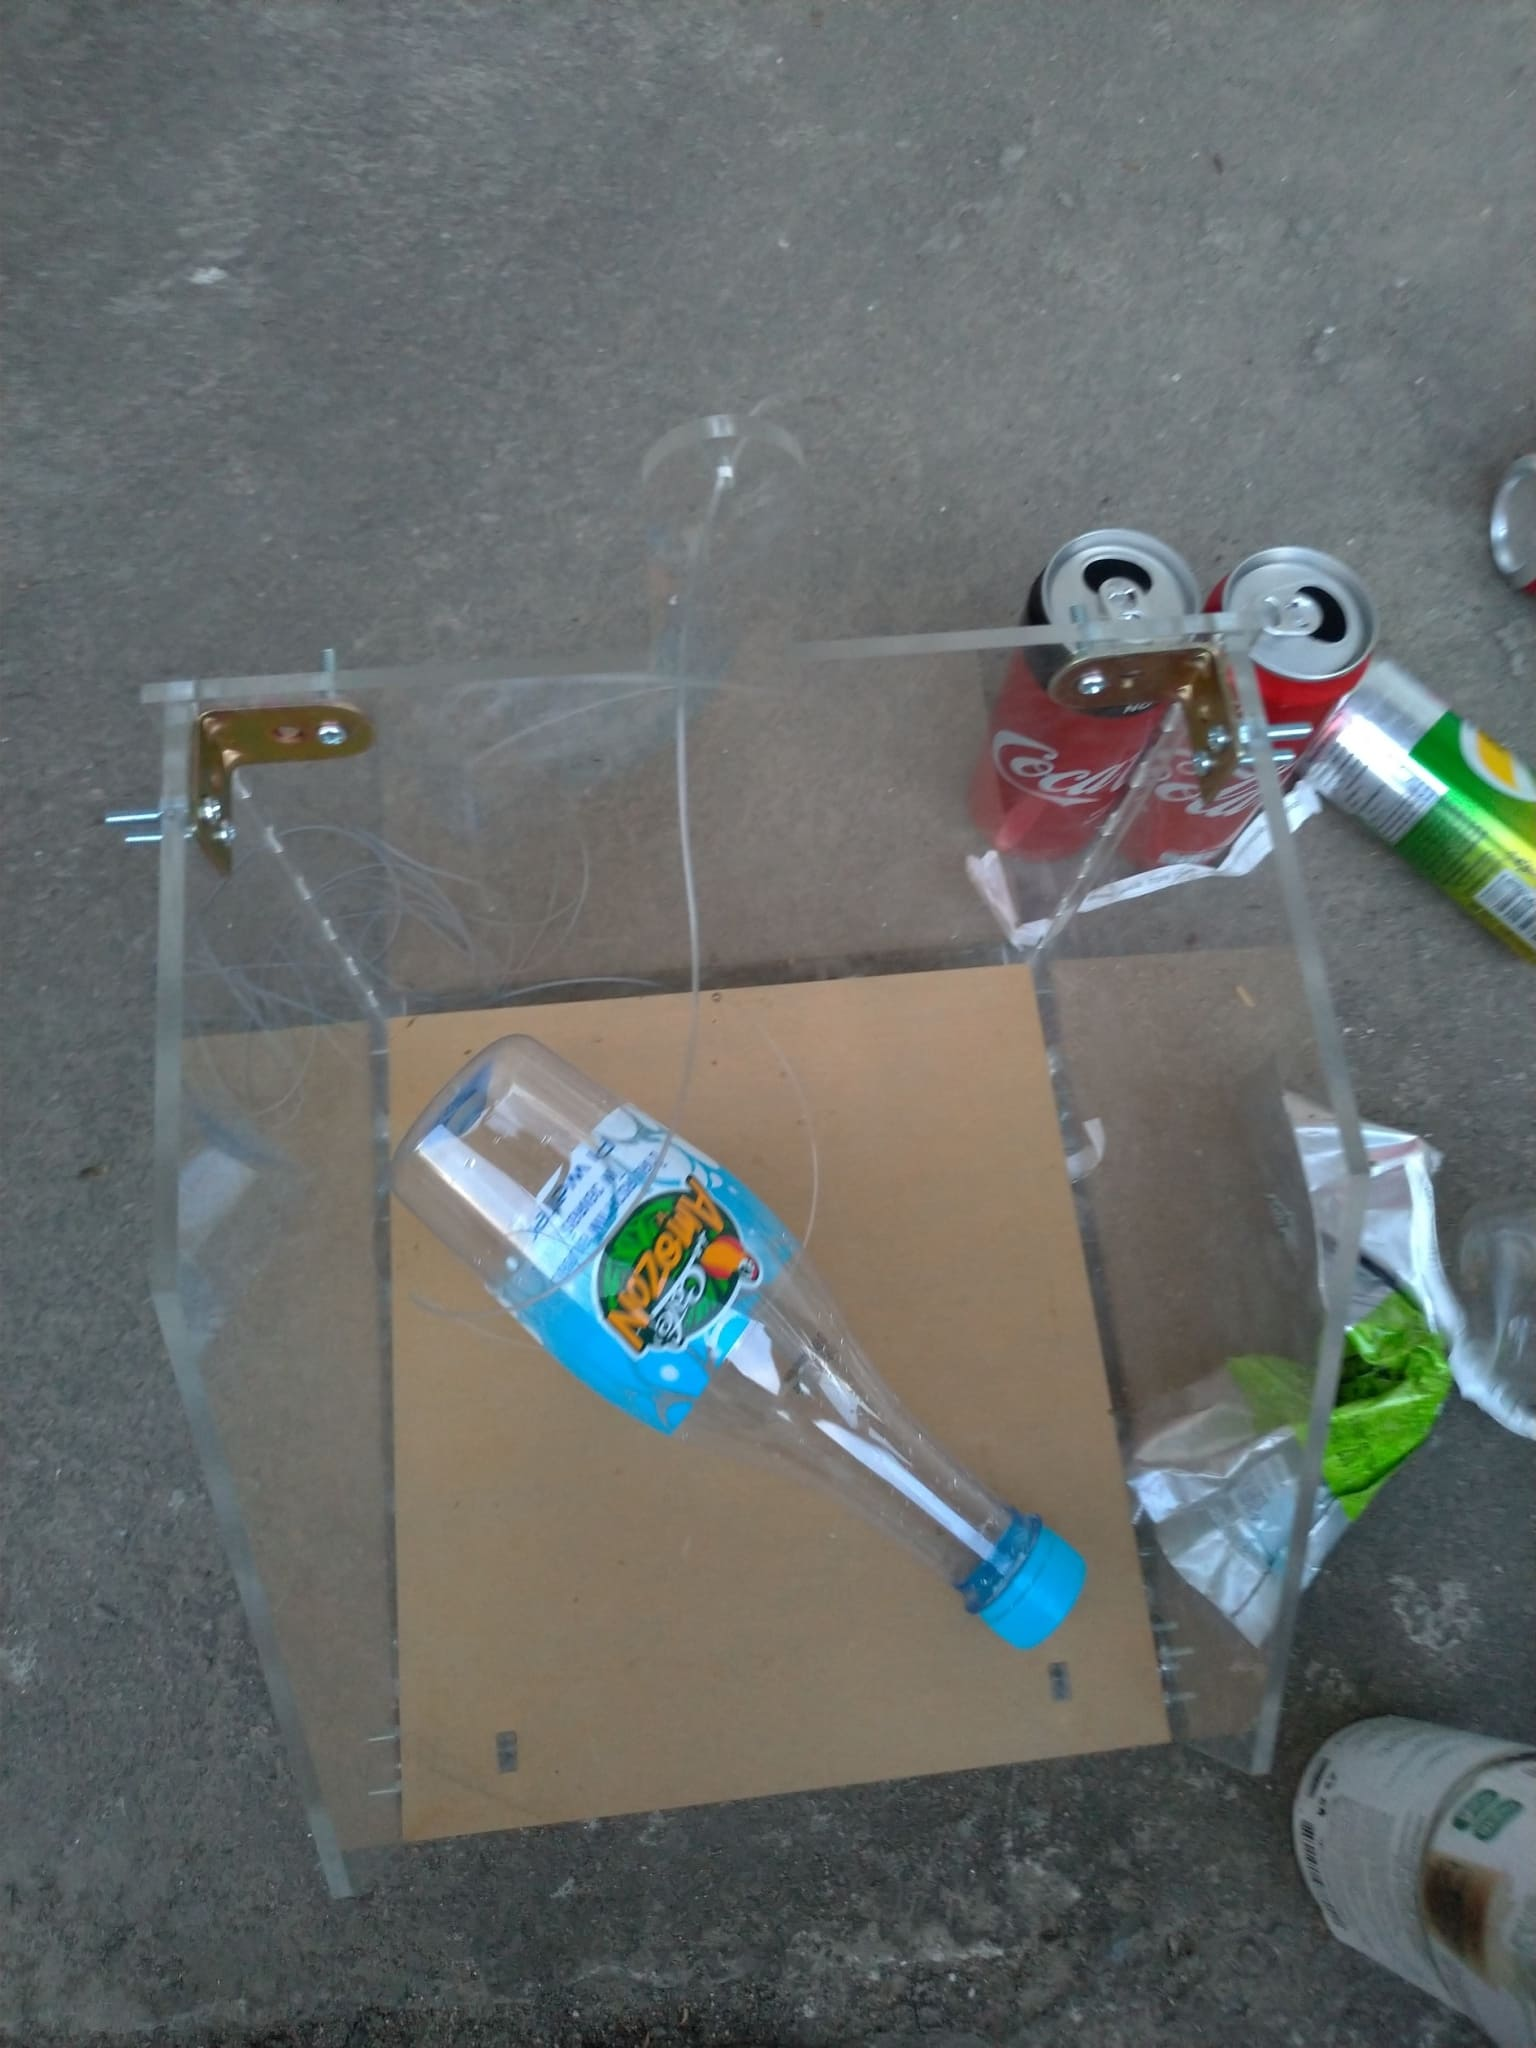AlCan: (1283, 1700, 1536, 2021), (971, 540, 1200, 856), (1149, 555, 1368, 871), (1320, 664, 1536, 942)
Others: (1141, 1085, 1471, 1646), (962, 784, 1317, 956)
PlasticBottle: (419, 1039, 1091, 1646)
